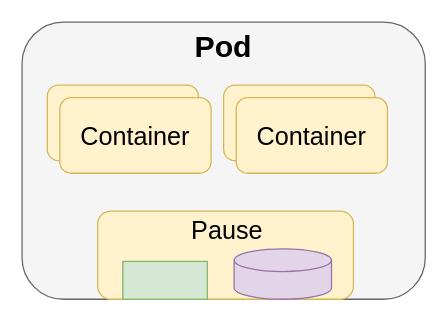
The diagram is 447 pixels wide and 321 high, and some of its shapes have lost their labels. The centre of each missing label's shape, as x and y in pixels:
"net" goes at point (164, 279).
"Volume" goes at point (282, 273).
